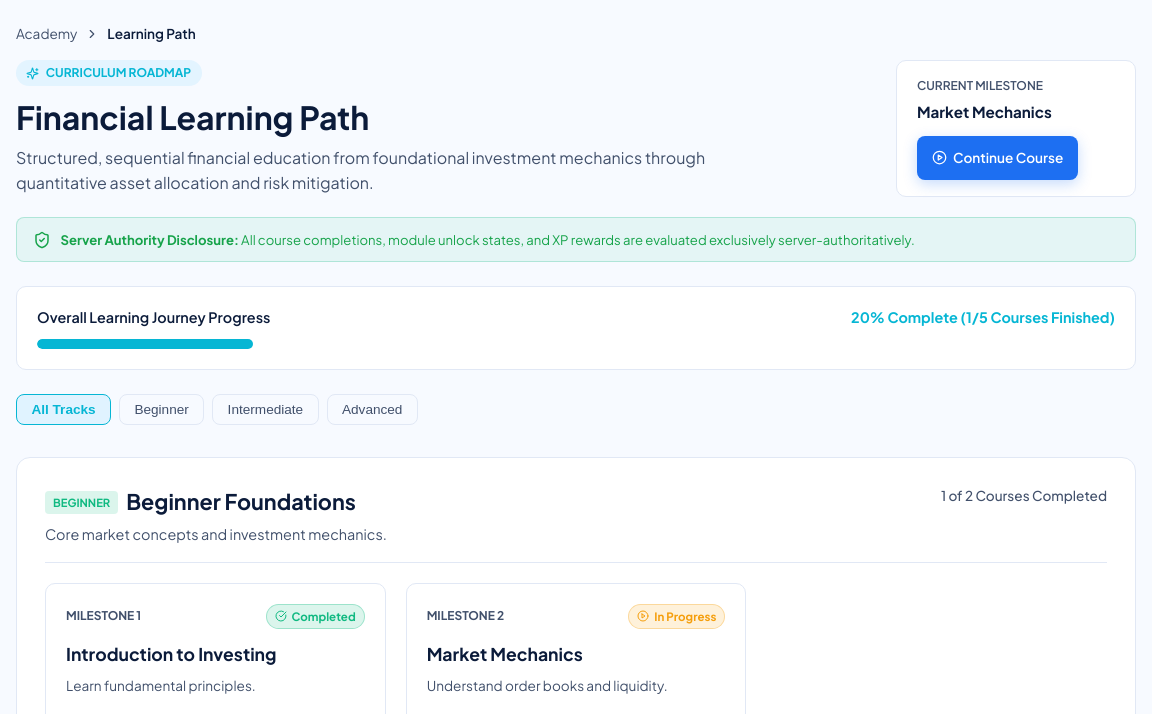
LearningPathPage (FEAT-079 / FR-004, FR-007, FR-008 / AC-004, AC-007, AC-008) › filters milestones by selected track level
Expected: the heading "Financial Learning Path" is shown, left=16, top=97, right=369, bottom=137
Note: Filter to Intermediate only
Step 1. Click the button "Intermediate" → (265, 409), box left=212, top=394, right=318, bottom=425
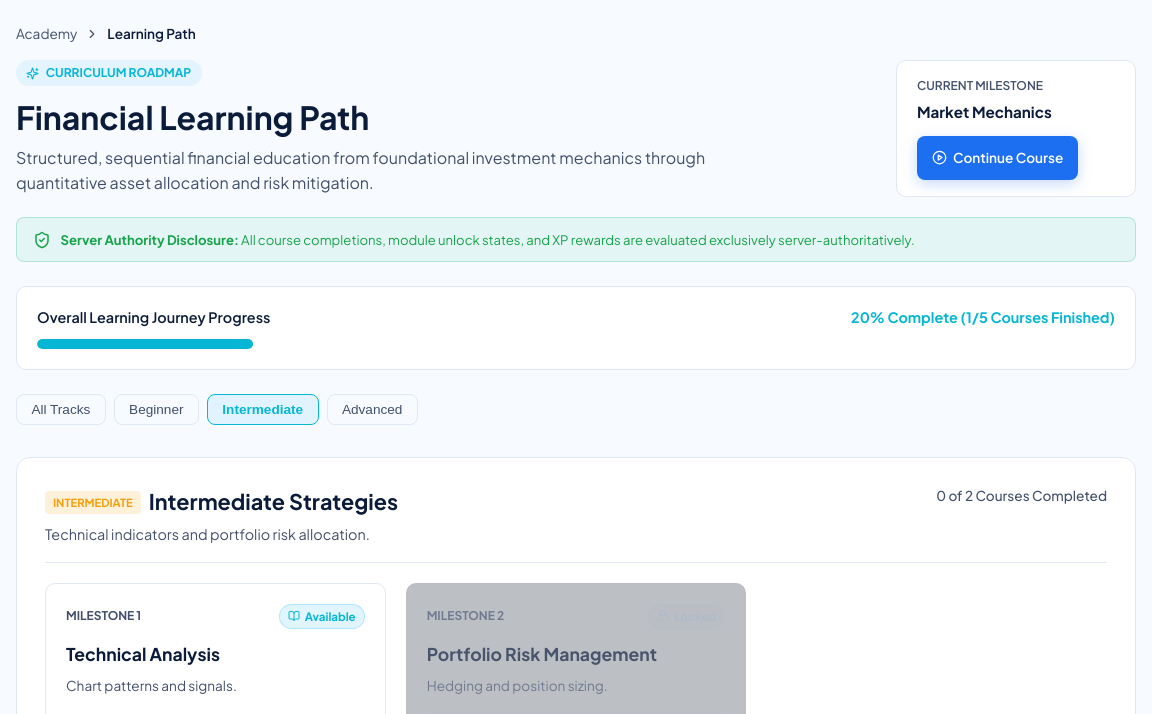
Expected: the heading "Intermediate Strategies" is shown, left=149, top=486, right=398, bottom=518
Now the heading "Beginner Foundations" is gone
